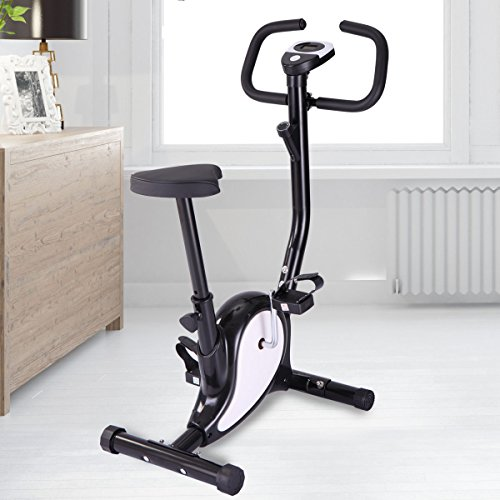gym_bike: (88, 11, 387, 495)
